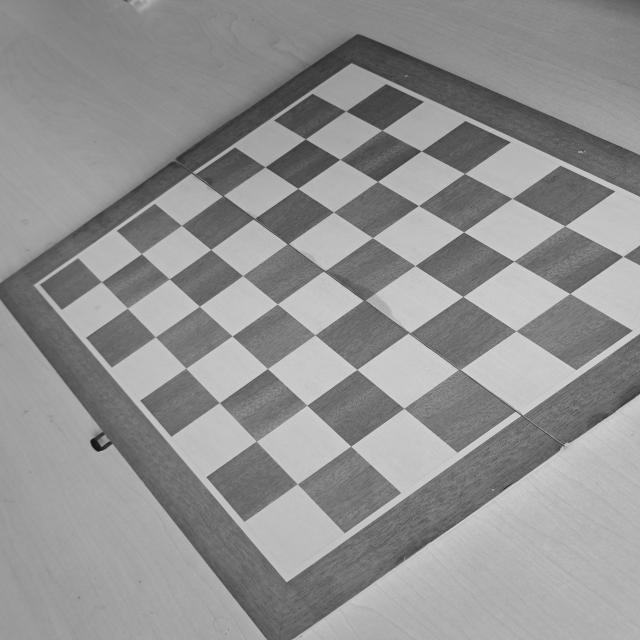chess-table-corners: (268, 557, 310, 589), (25, 273, 60, 296), (338, 58, 366, 80)
